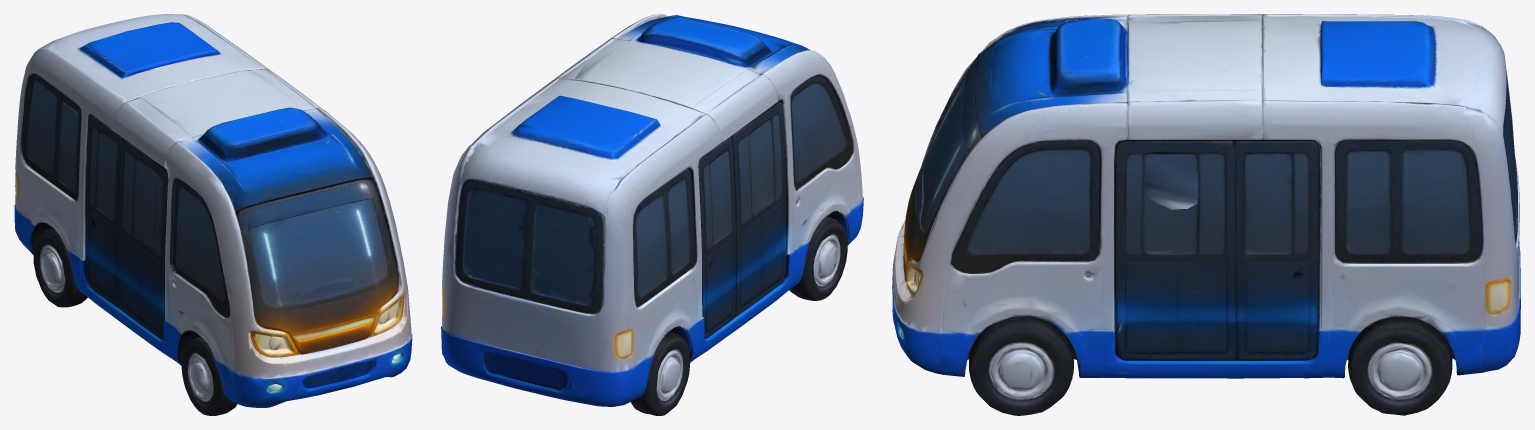
File: bus.glb
3 renders of one model, left to right at view 1: azimuth 30°, elevation 25°; view 2: azimuth 150°, elevation 25°; view 3: azimuth 270°, elevation 25°, orthographic. The views are drawn at different scales.
Visible parts, largest first — view 1: model; view 2: model; view 3: model.
Part boxes in pixels (x1=…): model: x1=14, y1=14, x2=412, y2=415; model: x1=441, y1=14, x2=863, y2=415; model: x1=892, y1=14, x2=1520, y2=415.
Size of the model in its own units: 0.4746 by 0.6103 by 1.09.
Materials: 1 (1 with a texture image).
